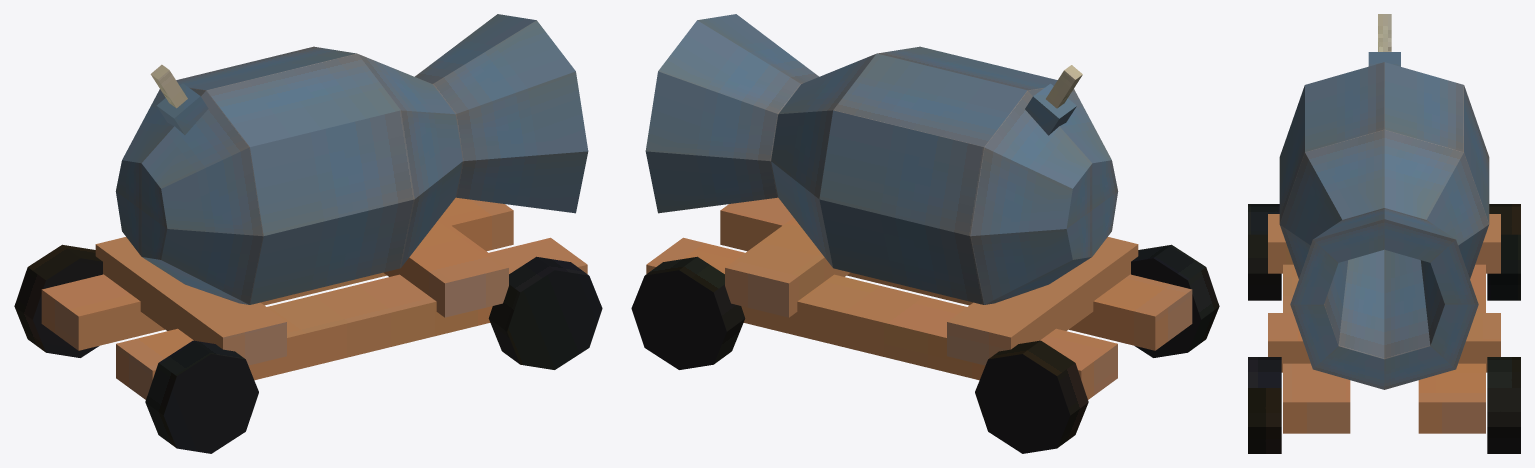
The model's file is 00gto_PcYMp.glb.
3 renders of one model, left to right at view 1: azimuth 30°, elevation 25°; view 2: azimuth 150°, elevation 25°; view 3: azimuth 270°, elevation 25°, orthographic. The views are drawn at different scales.
Parts seen in each view (by area): view 1: CANNON_Cube.008; view 2: CANNON_Cube.008; view 3: CANNON_Cube.008.
Part boxes in pixels (x1,y1,x2,y2): CANNON_Cube.008: [14, 14, 602, 453]; CANNON_Cube.008: [631, 14, 1219, 453]; CANNON_Cube.008: [1248, 14, 1520, 453].
Bounding box in the file's own units: 1.44 × 1 × 0.8326.
1 material, 1 textured.
